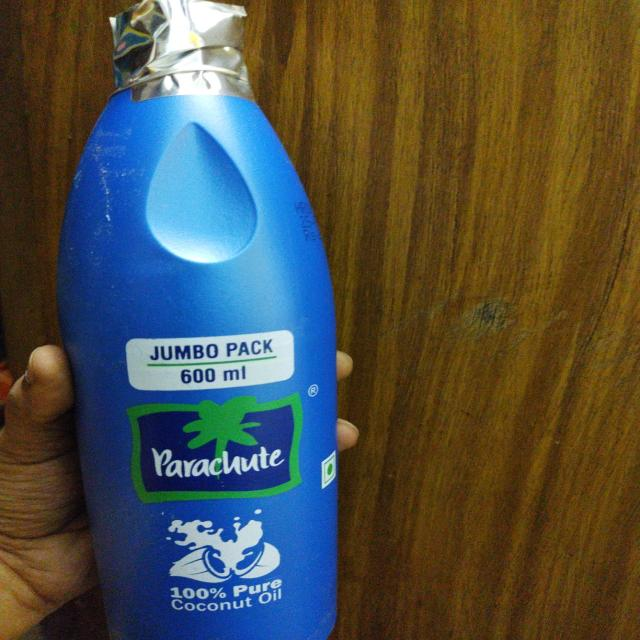parachute_oil: (61, 3, 365, 639)
